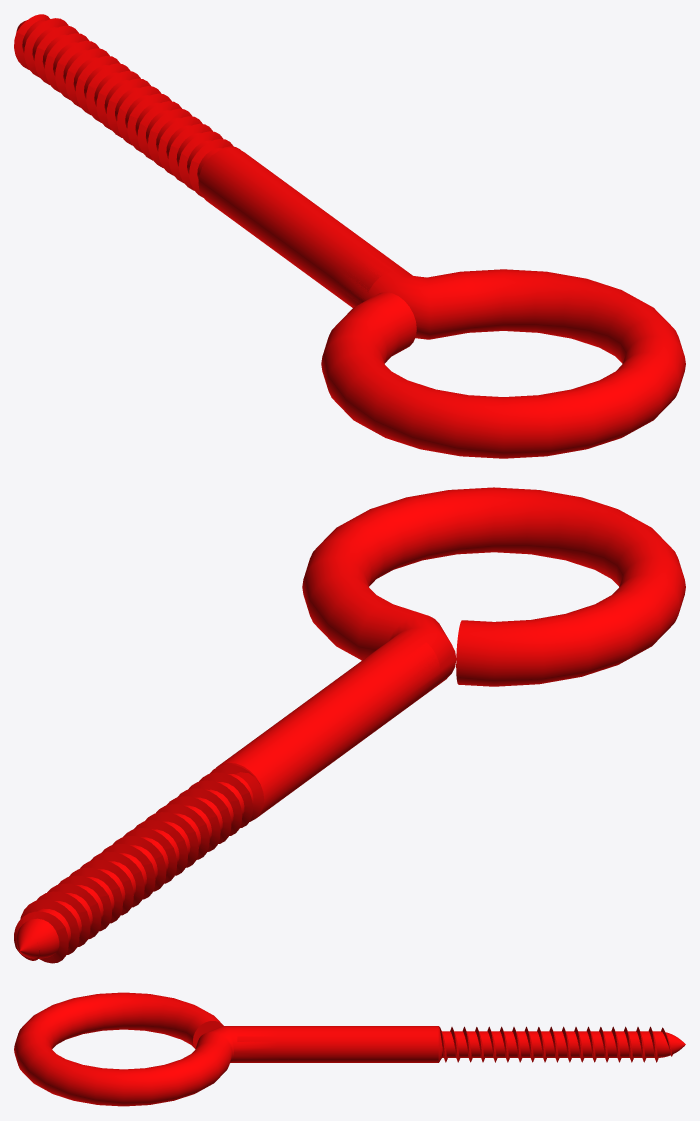
The model's file is spirelli_robot_red.dae.
3 views of the same model, one above another, from view 1: azimuth 30°, elevation 25°; view 2: azimuth 150°, elevation 25°; view 3: azimuth 270°, elevation 25° (orthographic). The views are drawn at different scales.
Visible parts, largest first — view 1: Bent_Wire_Eye, Shank, thread_.125_section_ (×14), Root, screw_thread_tip; view 2: Bent_Wire_Eye, Shank, thread_.125_section_ (×15), Root, screw_thread_tip; view 3: Bent_Wire_Eye, Shank, Root, screw_thread_tip.
Boxes of the visible parts, box(x1,y1,x2,y2) form: Bent_Wire_Eye: box(321, 245, 685, 458); Shank: box(198, 147, 409, 307); thread_.125_section_ (×14): box(34, 33, 223, 182); Root: box(16, 19, 222, 179); screw_thread_tip: box(14, 14, 78, 77); Bent_Wire_Eye: box(302, 487, 685, 709); Shank: box(216, 634, 440, 821); thread_.125_section_ (×15): box(47, 772, 249, 947); Root: box(16, 774, 253, 958); screw_thread_tip: box(14, 891, 86, 963); Bent_Wire_Eye: box(14, 992, 277, 1106); Shank: box(237, 1026, 441, 1062); Root: box(442, 1031, 685, 1057); screw_thread_tip: box(636, 1026, 672, 1062).
Size of the model in its own units: 6.64 by 20.32 by 1.12.
